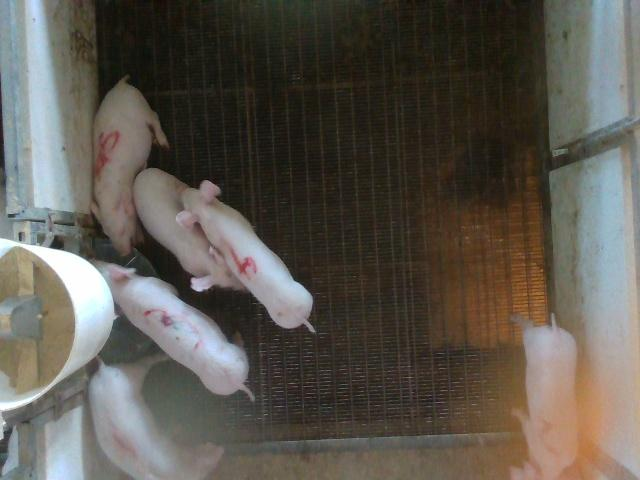pig-1: (89, 365, 178, 479)
pig-2: (512, 315, 578, 478)
pig-3: (91, 261, 254, 399)
pig-4: (178, 180, 314, 331)
pig-5: (91, 76, 169, 256)
